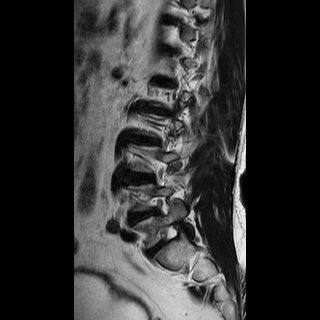LFS0: (151, 219, 184, 253)
